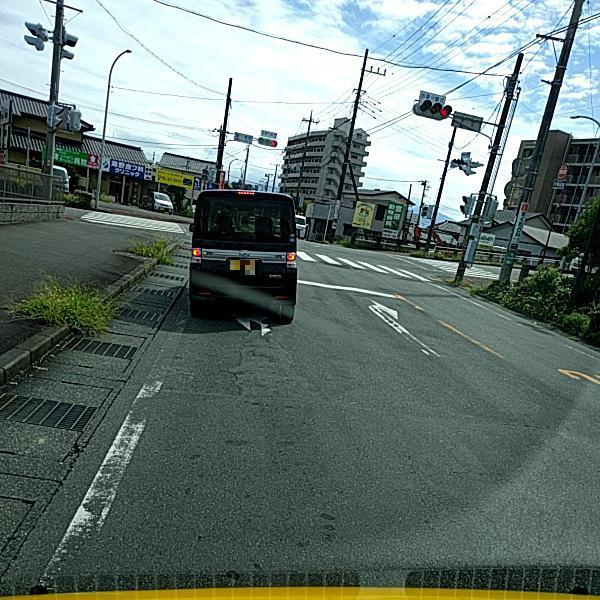D44: (30, 323, 188, 589), (365, 294, 441, 360)
